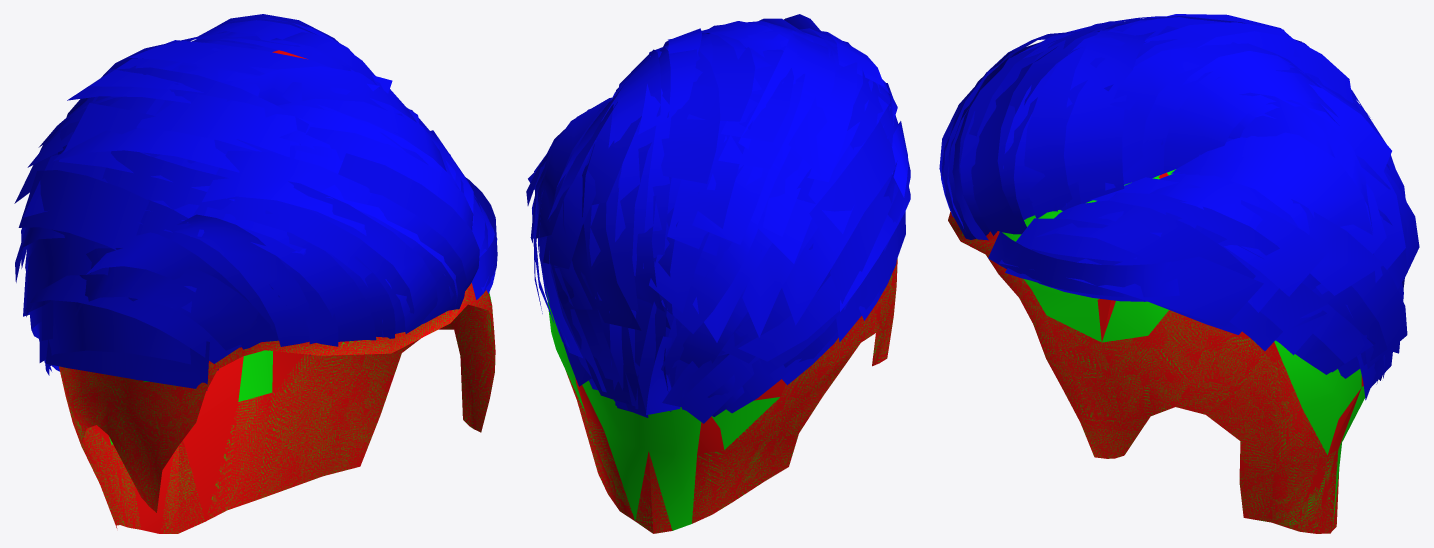
The model's file is hair_011.obj.
3 views of the same model, side by side, from view 1: azimuth 30°, elevation 25°; view 2: azimuth 150°, elevation 25°; view 3: azimuth 270°, elevation 25° (orthographic). The views are drawn at different scales.
Bounding box in the file's own units: 17.62 × 22.64 × 20.03.
